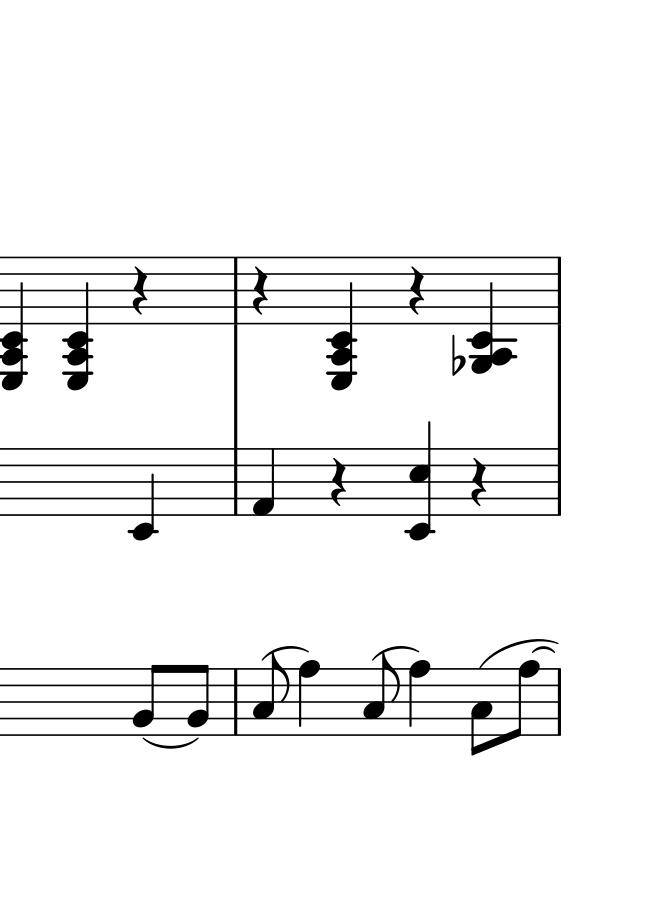4_-2: (129, 446, 157, 543)
4_-2_5: (403, 421, 437, 544)
4_1: (253, 447, 278, 516)
4_8: (296, 658, 322, 738), (407, 658, 432, 738)
4_th: (469, 255, 518, 377), (62, 256, 96, 393), (326, 256, 359, 393), (1, 256, 28, 391)
8_2: (134, 663, 166, 737), (187, 663, 211, 738)
8_3: (251, 654, 291, 737), (363, 654, 400, 738), (467, 666, 494, 758)
8_8: (508, 660, 542, 741)
Flat: (448, 331, 468, 378)
Rests4: (468, 455, 492, 507), (249, 265, 273, 315), (129, 264, 151, 317), (407, 265, 427, 317), (329, 456, 348, 507)
Single_barline: (223, 448, 250, 517), (547, 448, 570, 515), (546, 257, 567, 326), (227, 256, 246, 325), (550, 669, 569, 737), (228, 668, 245, 734)
Slur: (143, 737, 203, 748)
